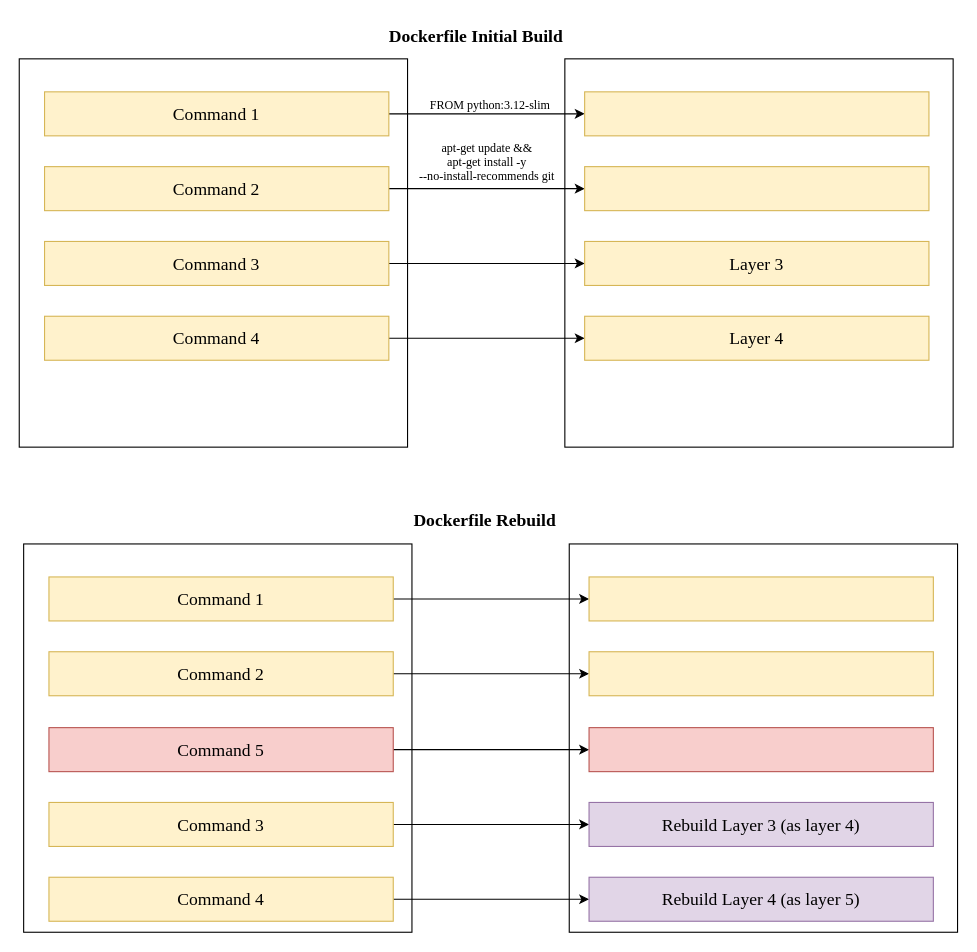
Image size: 977x952. Some labels were removed from this diagram. Each missing label, with the box of its shape:
Layer 1: (584, 91, 929, 136)
Layer 1 (Cached): (588, 576, 933, 621)
Layer 2: (584, 166, 929, 211)
Layer 2 ( Cached): (588, 651, 933, 696)
Layer 3 (New Layer): (588, 727, 933, 772)
